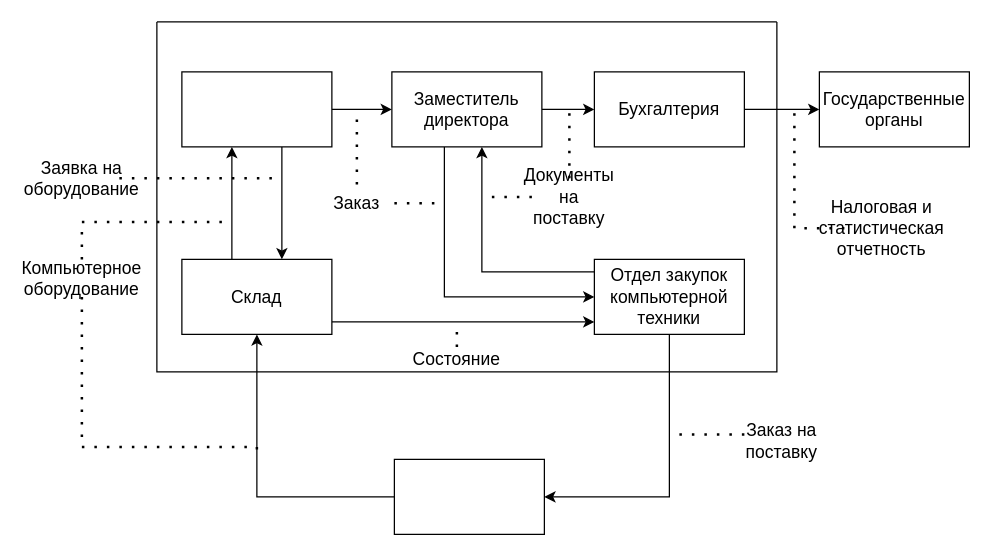
Some shapes in this 991 by 556 pixel diagram are drawn without their labels. Each missing label, with the centre of its shape:
"Отделы колледжа" belongs at point (256, 109).
"Поставщик" belongs at point (468, 496).
